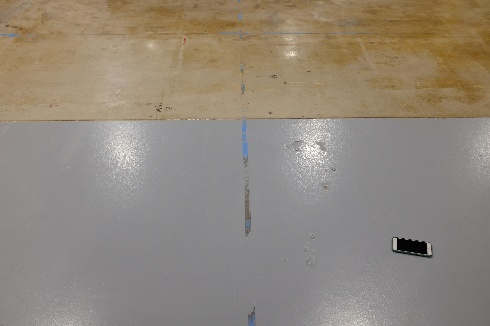phone: (387, 229, 436, 261)
